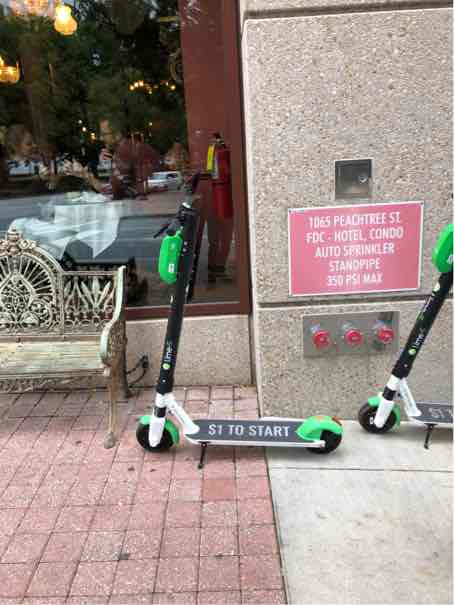scooter: (125, 183, 341, 467)
